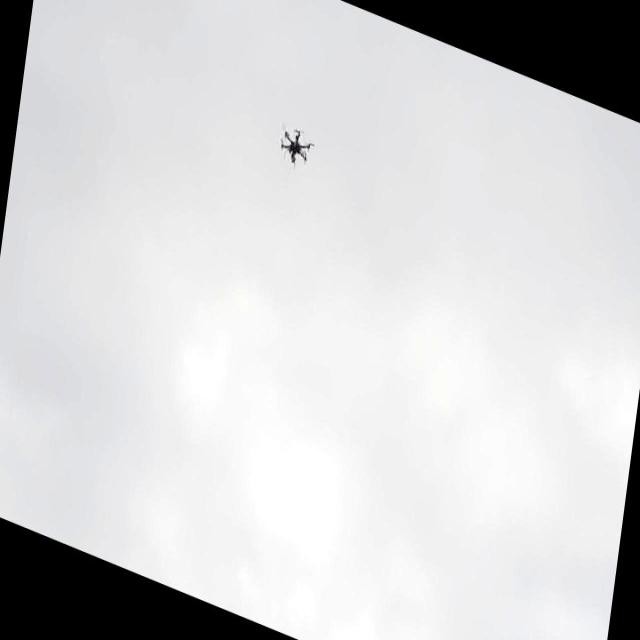drone: (273, 113, 320, 185)
